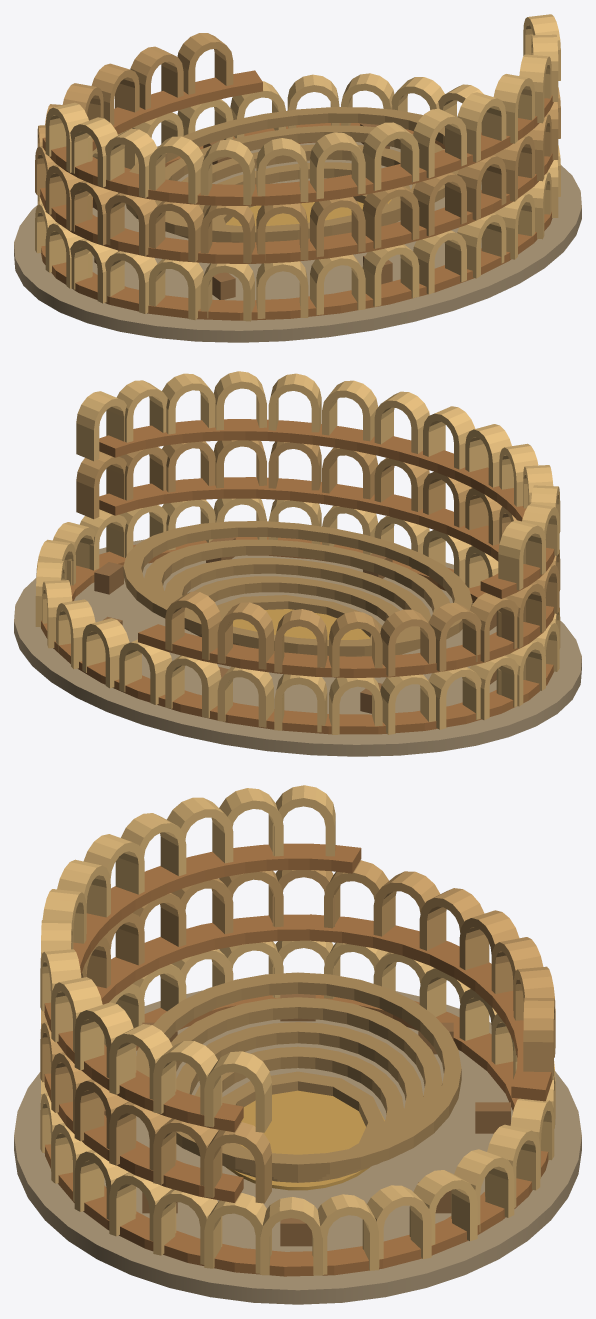
The model's file is colosseum.glb.
3 views of the same model, one above another, from view 1: azimuth 30°, elevation 25°; view 2: azimuth 150°, elevation 25°; view 3: azimuth 270°, elevation 25° (orthographic). The views are drawn at different scales.
Visible parts, largest first — view 1: body_DACAAB, body_C9B993, body_BBA982, base_B6AE97, interior_AD9F80, body_A6916C, arena_B59A71; view 2: body_DACAAB, body_BBA982, body_C9B993, interior_AD9F80, base_B6AE97, body_A6916C, arena_B59A71; view 3: body_DACAAB, base_B6AE97, body_BBA982, interior_AD9F80, body_C9B993, arena_B59A71, body_A6916C.
Part boxes in pixels (x1,y1,x2,y2): body_DACAAB: (35, 14, 560, 321); body_C9B993: (35, 33, 560, 263); body_BBA982: (39, 70, 553, 320); base_B6AE97: (14, 142, 581, 342); interior_AD9F80: (125, 107, 458, 242); body_A6916C: (93, 123, 392, 299); arena_B59A71: (226, 199, 391, 225); body_DACAAB: (35, 371, 560, 734); body_BBA982: (41, 419, 554, 734); body_C9B993: (76, 440, 560, 676); interior_AD9F80: (123, 521, 472, 656); base_B6AE97: (14, 539, 581, 756); body_A6916C: (94, 537, 496, 713); arena_B59A71: (233, 609, 369, 639); body_DACAAB: (40, 785, 555, 1275); base_B6AE97: (14, 990, 581, 1304); body_BBA982: (44, 843, 552, 1276); interior_AD9F80: (136, 972, 461, 1182); body_C9B993: (40, 860, 555, 1203); arena_B59A71: (226, 1090, 384, 1190); body_A6916C: (104, 994, 510, 1246).
Bounding box in the file's own units: 1 × 0.3374 × 0.7767.
